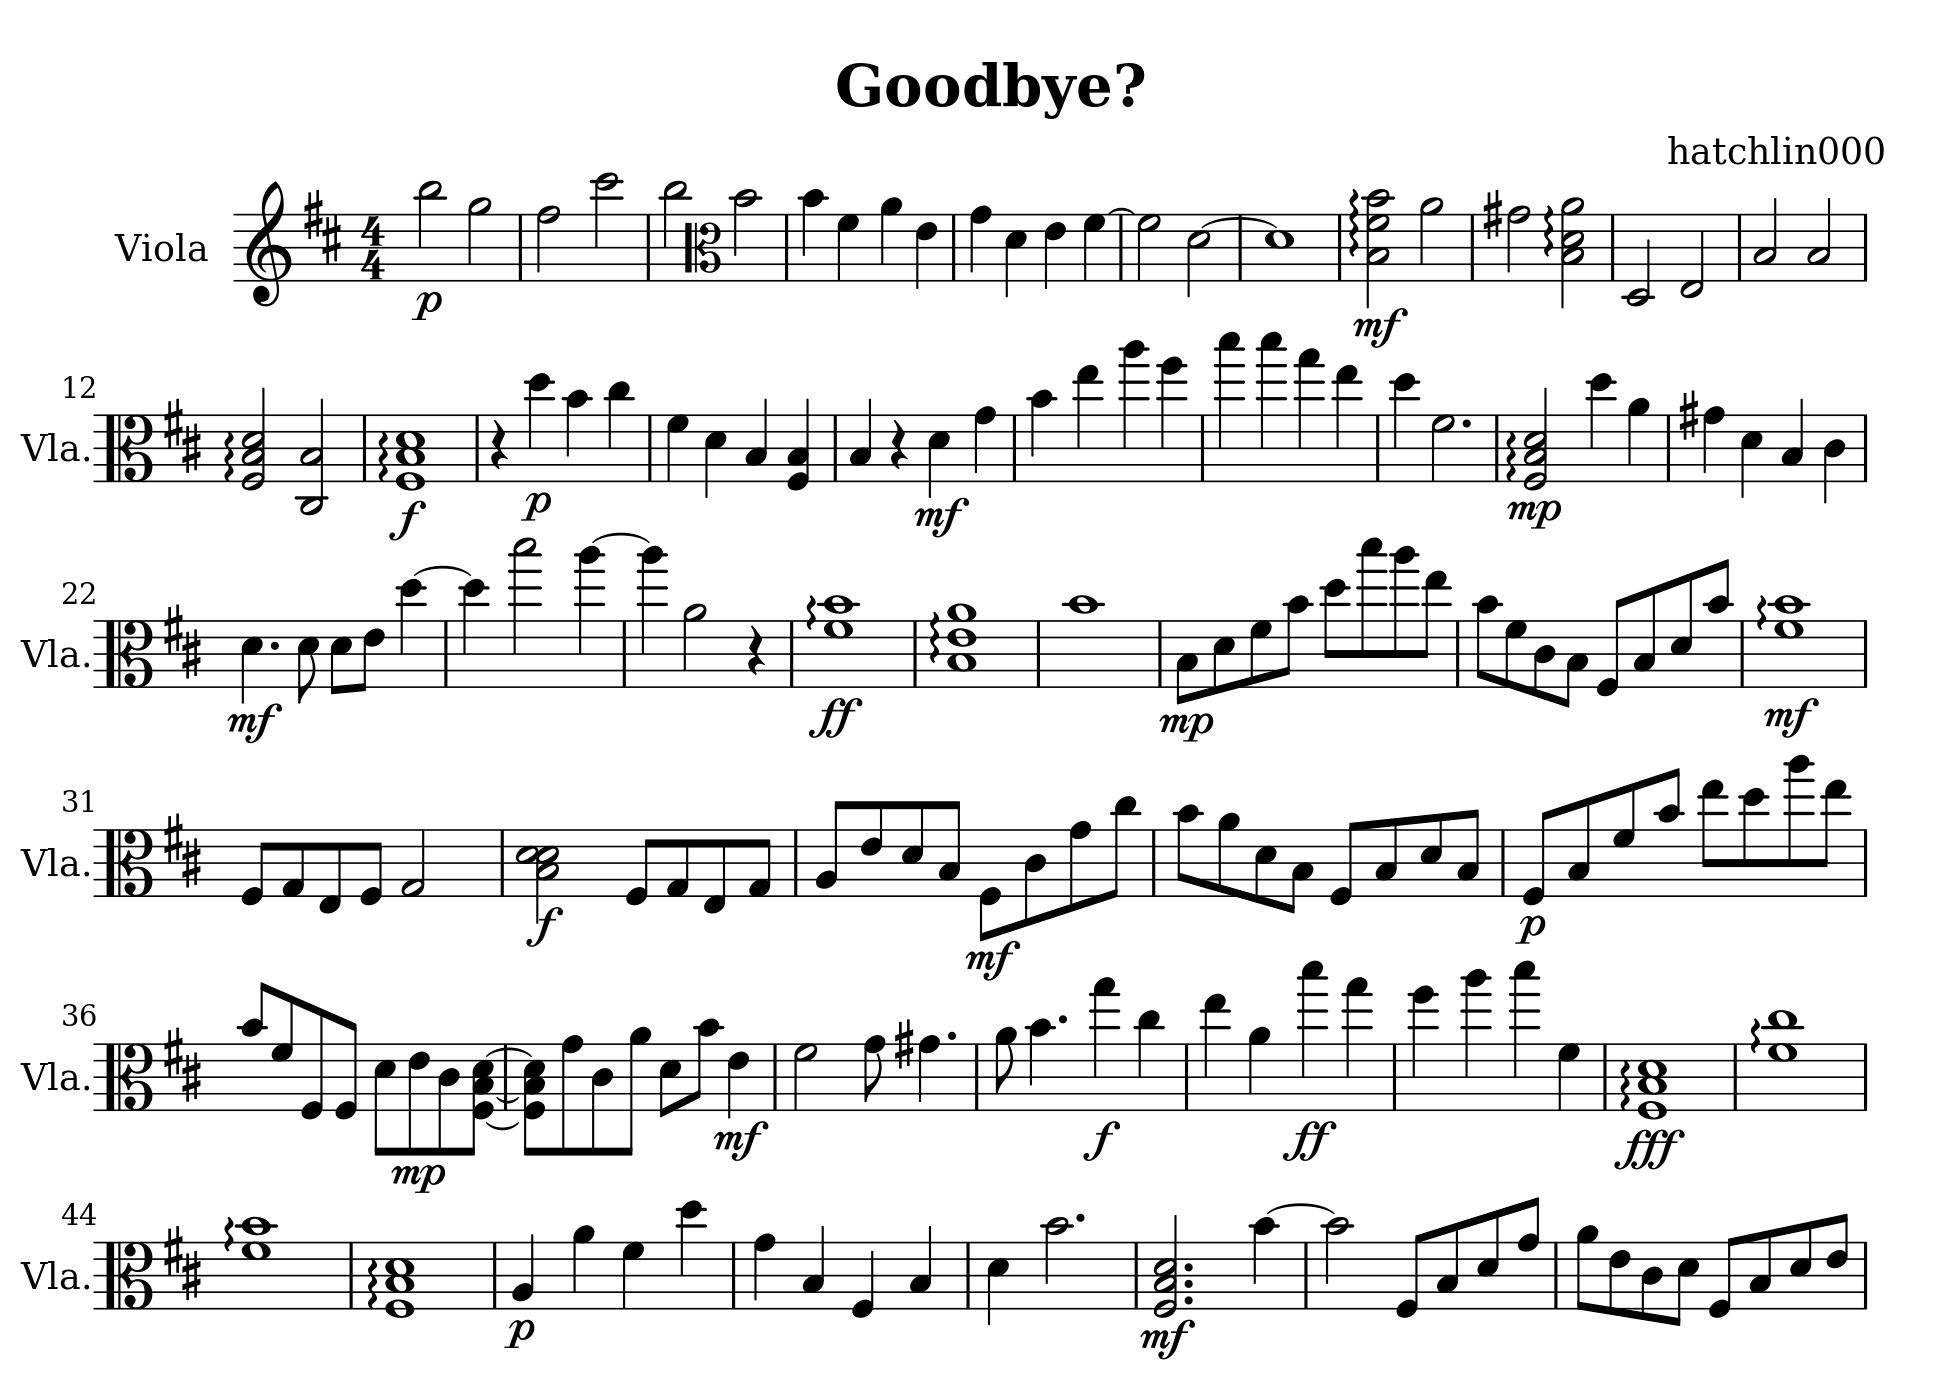1: (79, 787, 94, 813), (63, 373, 76, 399)
1_10: (1065, 592, 1102, 688)
1_5: (1264, 211, 1296, 283)
1_7_10: (1761, 1006, 1806, 1111), (232, 1216, 280, 1312), (817, 592, 862, 691), (1771, 591, 1813, 688)
1_th: (943, 601, 979, 688), (1633, 1039, 1671, 1119), (393, 409, 427, 492), (382, 1239, 417, 1318)
2: (78, 373, 96, 399), (78, 579, 96, 604), (60, 580, 78, 604)
2_-1: (1680, 211, 1707, 298)
2_-2: (1623, 211, 1653, 307)
2_-3_3: (294, 399, 330, 516)
2_1: (400, 826, 427, 898)
2_10: (1321, 1215, 1354, 1312), (1041, 1215, 1072, 1312), (729, 187, 760, 283)
2_11: (414, 178, 445, 282), (660, 178, 690, 283)
2_12: (591, 169, 622, 283)
2_17: (508, 535, 541, 691)
2_3: (1752, 196, 1780, 283), (1806, 196, 1833, 282)
2_5: (1185, 211, 1212, 298)
2_7: (1135, 211, 1162, 283), (790, 1041, 817, 1113), (1431, 412, 1455, 484)
2_8: (534, 202, 562, 285), (1506, 202, 1533, 286)
2_9: (679, 601, 709, 691), (463, 195, 493, 283), (1419, 195, 1446, 283)
2_th: (514, 829, 561, 925), (1362, 184, 1395, 310), (1558, 192, 1587, 307), (1522, 385, 1551, 493), (241, 385, 268, 490)
3: (60, 787, 78, 813), (60, 1000, 78, 1026)
4: (358, 211, 388, 246), (358, 246, 387, 280), (79, 1200, 97, 1227), (61, 1200, 78, 1225)
4_0: (850, 1239, 874, 1320)
4_0_3: (786, 399, 811, 492)
4_10: (1249, 1216, 1281, 1311), (562, 388, 592, 484), (1026, 1017, 1056, 1113), (799, 187, 828, 283), (1027, 388, 1056, 484)
4_11: (604, 379, 634, 484), (1135, 1008, 1164, 1113)
4_12: (459, 577, 490, 690), (396, 577, 427, 688), (1587, 370, 1617, 484), (676, 1198, 706, 1311), (1390, 370, 1419, 484), (525, 370, 553, 483)
4_13: (1200, 993, 1230, 1114), (1074, 363, 1102, 486), (1333, 363, 1362, 484)
4_14: (1408, 985, 1438, 1114), (1158, 355, 1186, 484)
4_15: (1090, 973, 1119, 1113), (1344, 976, 1372, 1111), (1296, 348, 1323, 483)
4_16: (573, 544, 604, 688), (1119, 340, 1149, 484), (637, 544, 667, 688), (1461, 969, 1491, 1111)
4_17: (1213, 330, 1245, 484), (1255, 330, 1287, 484), (1297, 958, 1329, 1111), (1509, 961, 1540, 1114)
4_2: (511, 1231, 537, 1309)
4_3: (847, 396, 874, 483), (744, 396, 769, 483), (801, 1222, 826, 1309), (1780, 397, 1806, 483), (909, 1222, 933, 1309)
4_4: (1822, 412, 1846, 505)
4_5: (985, 1239, 1011, 1327), (927, 412, 952, 499), (238, 618, 264, 705), (1005, 211, 1029, 298), (703, 412, 727, 499), (1740, 412, 1764, 499)
4_6: (913, 211, 940, 289), (726, 1041, 751, 1120), (1042, 211, 1068, 289)
4_7: (619, 1240, 646, 1311), (835, 211, 861, 283), (1081, 211, 1107, 283), (1557, 1041, 1582, 1113), (664, 412, 690, 483)
4_8: (973, 403, 1000, 484), (967, 202, 994, 282), (751, 1231, 778, 1311), (1701, 403, 1726, 484), (916, 1033, 940, 1113)
4_9: (570, 1222, 598, 1311), (877, 195, 904, 282), (1246, 1024, 1272, 1113), (1626, 396, 1651, 483)
4_th: (1152, 1213, 1180, 1318)
6: (78, 1000, 97, 1026)
8_-1: (316, 826, 343, 916), (702, 826, 727, 915)
8_0: (1522, 807, 1557, 907), (298, 1002, 327, 1122), (1596, 595, 1629, 697), (1395, 1228, 1429, 1320), (1329, 819, 1362, 907), (1708, 1233, 1741, 1320), (238, 826, 273, 907), (978, 826, 1002, 939), (624, 826, 657, 906), (334, 1015, 358, 1122), (358, 826, 385, 907)
8_1: (745, 826, 774, 900), (280, 826, 307, 898), (664, 826, 691, 898)
8_10: (238, 979, 271, 1111), (1653, 766, 1684, 898), (1704, 556, 1734, 690), (685, 1015, 723, 1114), (1279, 592, 1312, 688), (1173, 802, 1203, 898), (1474, 592, 1503, 688)
8_11: (1102, 793, 1140, 901)
8_12: (1740, 786, 1770, 898), (1323, 577, 1350, 688)
8_13: (1818, 775, 1851, 898), (1417, 568, 1450, 688), (1698, 777, 1728, 898)
8_16: (1783, 751, 1815, 898), (1389, 541, 1417, 688)
8_17: (1359, 538, 1386, 688)
8_2: (813, 798, 847, 900)
8_3: (1632, 585, 1659, 691), (1566, 793, 1593, 900), (1284, 828, 1315, 916), (1560, 619, 1590, 709), (937, 798, 963, 900), (1435, 1219, 1462, 1312), (1456, 807, 1482, 898), (1374, 816, 1401, 898), (1174, 618, 1200, 703), (1749, 1227, 1773, 1312)
8_4: (435, 1041, 460, 1156), (589, 1042, 613, 1158), (1023, 826, 1047, 928), (1638, 1240, 1663, 1323), (1533, 619, 1557, 700)
8_5: (370, 1039, 397, 1156), (1669, 570, 1695, 690), (1476, 1206, 1501, 1312), (1671, 1239, 1701, 1327), (900, 798, 925, 900), (1789, 1219, 1815, 1311), (1419, 810, 1444, 898), (1252, 826, 1278, 907), (295, 618, 319, 703), (328, 618, 352, 696), (1212, 618, 1236, 694), (657, 1041, 681, 1117)
8_6: (405, 1039, 430, 1153), (858, 796, 885, 900), (1824, 1210, 1851, 1312), (355, 618, 385, 693), (1606, 1240, 1632, 1318)
8_7: (270, 991, 295, 1113), (1612, 780, 1638, 898), (1503, 618, 1527, 691), (1248, 618, 1272, 688)
8_8: (559, 1033, 586, 1156), (1515, 1195, 1542, 1312), (1065, 819, 1092, 915), (861, 1033, 886, 1113)
8_9: (616, 1026, 652, 1156), (1215, 811, 1240, 898), (993, 1026, 1018, 1113), (1575, 1222, 1599, 1314)
Arpeggio: (1345, 183, 1363, 255), (219, 427, 237, 486), (925, 609, 942, 667), (1542, 205, 1557, 265), (375, 429, 391, 481), (1753, 592, 1770, 639), (1620, 1056, 1632, 1114), (802, 589, 817, 631), (222, 1216, 238, 1252), (1749, 1012, 1761, 1059)
Cclef: (103, 412, 154, 484), (103, 1041, 154, 1111), (103, 1240, 154, 1311), (103, 619, 154, 688), (103, 826, 154, 895), (684, 211, 723, 283)
D_S: (303, 186, 343, 264), (162, 1024, 202, 1102), (162, 1225, 202, 1303), (163, 396, 202, 475), (163, 811, 202, 889), (163, 603, 202, 679)
Gclef: (243, 178, 292, 307)
Rests4: (487, 418, 510, 472), (745, 624, 766, 679), (888, 417, 907, 472)
Sharp: (1677, 388, 1699, 442), (892, 1015, 913, 1071), (1482, 187, 1503, 241)
Single_barline: (1149, 619, 1170, 687), (1029, 619, 1048, 687), (342, 1240, 361, 1308), (486, 1240, 504, 1309), (826, 412, 844, 480), (1194, 414, 1212, 481), (1855, 619, 1873, 687), (1734, 619, 1752, 687), (766, 1042, 784, 1110), (1597, 1042, 1615, 1110), (1855, 1042, 1873, 1110), (1726, 1042, 1744, 1110), (511, 213, 529, 279), (1113, 214, 1131, 280), (355, 414, 373, 480), (640, 414, 658, 480), (906, 619, 924, 685), (724, 1240, 742, 1306), (1857, 826, 1873, 897), (778, 213, 795, 280), (946, 213, 963, 280), (1464, 213, 1480, 280), (1857, 213, 1873, 280), (469, 414, 486, 481), (1006, 414, 1023, 481), (1369, 414, 1386, 481), (1857, 414, 1873, 481), (616, 619, 633, 687), (784, 619, 801, 687), (1450, 619, 1467, 687), (787, 828, 804, 895), (1146, 828, 1162, 895), (960, 1240, 976, 1308), (1128, 1240, 1144, 1308), (1179, 1042, 1195, 1108), (1387, 1042, 1404, 1108), (1488, 415, 1504, 480), (1858, 1240, 1873, 1309), (1605, 213, 1620, 280), (1732, 213, 1747, 280), (1497, 828, 1512, 895), (1549, 1240, 1564, 1308), (640, 214, 655, 280), (1233, 214, 1248, 280), (1332, 214, 1347, 280), (1662, 414, 1677, 480), (439, 619, 454, 685), (495, 829, 510, 895), (1299, 1242, 1314, 1308), (499, 1042, 513, 1111), (970, 1044, 984, 1108)
Slur: (1266, 1201, 1335, 1216), (1200, 216, 1279, 228), (589, 531, 651, 544), (412, 564, 472, 577), (484, 1045, 534, 1057), (484, 1120, 520, 1129), (1107, 205, 1137, 214)
TimeSig: (358, 213, 388, 280)
Vla: (21, 1054, 79, 1099), (21, 1252, 79, 1297), (22, 841, 79, 885), (21, 427, 79, 469), (22, 633, 79, 675)
dot: (267, 637, 280, 652), (1056, 1012, 1069, 1026), (1074, 1210, 1086, 1225), (1461, 415, 1473, 429), (945, 1027, 957, 1041), (1182, 1260, 1195, 1272), (1182, 1293, 1194, 1306), (1183, 1276, 1194, 1290)
f: (1080, 1120, 1122, 1162), (387, 498, 427, 541), (523, 904, 564, 948)
ff: (1281, 1119, 1338, 1162), (807, 696, 862, 739)
fff: (1612, 1126, 1689, 1173)
mf: (961, 939, 1021, 982), (1351, 304, 1410, 348), (1761, 697, 1821, 738), (913, 496, 970, 538), (712, 1120, 769, 1162), (1138, 1318, 1195, 1360), (226, 703, 282, 745)
mp: (1156, 709, 1215, 745), (388, 1162, 448, 1197), (1506, 496, 1563, 532)
p: (409, 289, 442, 324), (502, 1317, 535, 1351), (520, 490, 552, 522), (1515, 913, 1546, 945)
